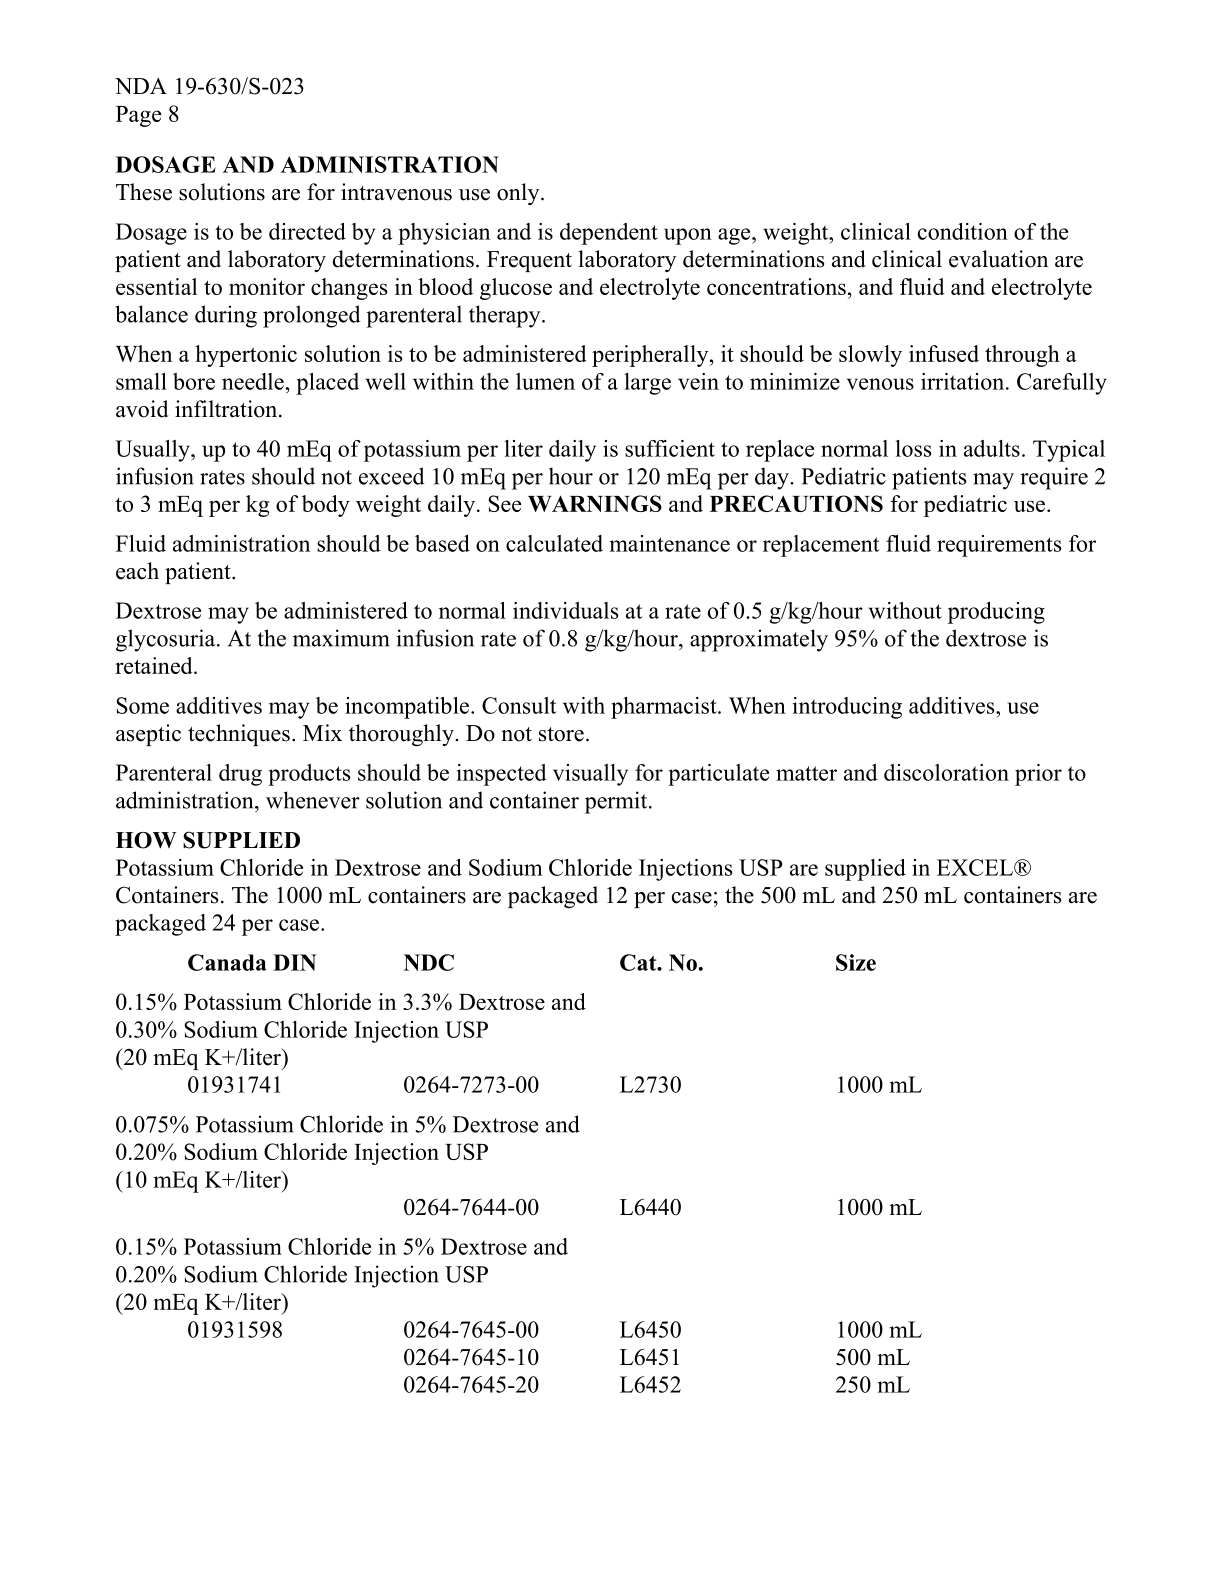nolines: (113, 951, 924, 1401)
